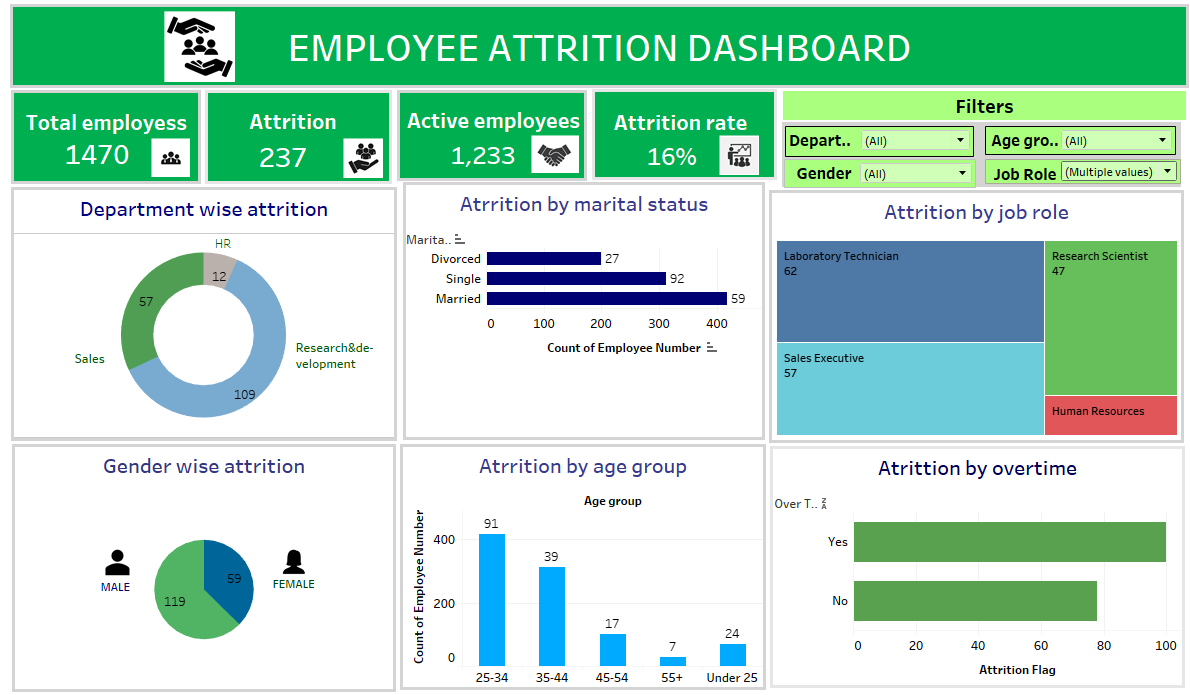

Layout of this report page (visuals, bound fields, positions):
{"tool":"tableau","page":{"name":"Dashboard 2","canvas":[1200,860],"ordinal":0},"visuals":[{"type":"text","box":[12,5,1179,84]},{"type":"image","param":"Image/79532fa8-296c-453c-b81e-f34014243d36.jpeg","box":[166,12,264,71]},{"type":"image","param":"Image/5a890700-e112-424e-81fd-c94060619dfd.jpeg","box":[176,17,256,75]},{"type":"text","box":[398,84,195,74]},{"type":"text","box":[221,89,148,66]},{"type":"text","box":[613,90,149,65]},{"type":"text","box":[25,91,168,64]},{"type":"text","box":[785,92,403,29]},{"type":"text","box":[431,117,108,76]},{"type":"text","box":[646,119,108,74]},{"type":"text","box":[258,120,118,74]},{"type":"filter","title":"Sheet 16","param":"[federated.16zpelg1lhxt8r173925q1rbhgaf].[none:Department:nk]","box":[787,127,189,31]},{"type":"filter","title":"Sheet 14","param":"[federated.16zpelg1lhxt8r173925q1rbhgaf].[none:Calculation_81909247215124481:nk]","box":[987,127,191,29]},{"type":"text","box":[45,135,108,39]},{"type":"image","param":"Image/637afc44-7fb7-4b32-ad8b-566a327054fc.jpeg","box":[533,136,48,46]},{"type":"image","param":"Image/Training icon isolated on white background Vector illustration _ Premium V","box":[721,136,66,40]},{"type":"image","param":"Image/Employee Silhouette PNG Transparent, Employee Icon Design Template Vector ","box":[153,139,47,39]},{"type":"image","param":"Image/An inclusive workplace_ Employee Protection icon.jpeg","box":[345,139,63,40]},{"type":"filter","title":"Sheet 12","param":"[federated.16zpelg1lhxt8r173925q1rbhgaf].[none:Gender:nk]","box":[786,160,192,29]},{"type":"filter","title":"Sheet 15","param":"[federated.16zpelg1lhxt8r173925q1rbhgaf].[none:JobRole:nk]","box":[987,160,196,25]},{"type":"image","param":"Image/4a7e0ff7-4059-4ecc-810a-42140092f9d6.jpeg","box":[351,162,33,32]},{"type":"image","param":"Image/9324ca4c-8268-4a35-89d4-aea2db6ec67a.jpeg","box":[151,163,56,32]},{"type":"image","param":"Image/….jpeg","box":[730,163,48,25]},{"type":"image","param":"Image/e974a485-ed11-454a-9ee4-c51703197817.jpeg","box":[544,164,29,29]},{"type":"worksheet","title":"Sheet 13","mark":"Automatic","rows":["MaritalStatus"],"cols":["EmployeeNumber"],"box":[405,183,362,258]},{"type":"worksheet","title":"Sheet 16","mark":"Pie","rows":["Calculation_521854635137052681","Calculation_521854635137052681"],"box":[13,188,386,254]},{"type":"worksheet","title":"Sheet 15","mark":"Automatic","box":[771,191,415,253]},{"type":"text","box":[214,223,108,42]},{"type":"text","box":[295,336,89,42]},{"type":"text","box":[74,338,108,42]},{"type":"worksheet","title":"Sheet 12","mark":"Pie","box":[14,445,384,248]},{"type":"worksheet","title":"Sheet 14","mark":"Automatic","rows":["EmployeeNumber"],"cols":["Calculation_81909247215124481"],"box":[402,445,366,246]},{"type":"worksheet","title":"Sheet 17","mark":"Automatic","rows":["OverTime"],"cols":["Calculation_539306069861269504"],"box":[772,447,415,242]},{"type":"image","param":"Image/user icon, #user, #ad, #sponsored, #icon, #ad.jpeg","box":[101,545,36,48]},{"type":"image","param":"Image/7111cc6c-83f1-483a-9abb-6ef8c344eabe.jpeg","box":[281,548,29,41]},{"type":"text","box":[272,562,108,44]},{"type":"text","box":[100,565,108,44]},{"type":"image","param":"Image/download (2).jpeg","box":[91,644,85,74]},{"type":"image","param":"Image/04028cd6-102d-4be9-aee7-0cf688dfaead.jpeg","box":[276,669,61,59]}]}

Visuals, with their boxes on the page's 1200x860 design canvas (x1, y1, x2, y2). These are canvas units, not pixel positions in the 1190x695 screenshot, which may show the page scaled, cropped or inside an application window:
text: 12:5:1191:89
image: 166:12:430:83
image: 176:17:432:92
text: 398:84:593:158
text: 221:89:369:155
text: 613:90:762:155
text: 25:91:193:155
text: 785:92:1188:121
text: 431:117:539:193
text: 646:119:754:193
text: 258:120:376:194
"Sheet 16" filter: 787:127:976:158
"Sheet 14" filter: 987:127:1178:156
text: 45:135:153:174
image: 533:136:581:182
image: 721:136:787:176
image: 153:139:200:178
image: 345:139:408:179
"Sheet 12" filter: 786:160:978:189
"Sheet 15" filter: 987:160:1183:185
image: 351:162:384:194
image: 151:163:207:195
image: 730:163:778:188
image: 544:164:573:193
"Sheet 13" worksheet: 405:183:767:441
"Sheet 16" worksheet (Pie marks): 13:188:399:442
"Sheet 15" worksheet: 771:191:1186:444
text: 214:223:322:265
text: 295:336:384:378
text: 74:338:182:380
"Sheet 12" worksheet (Pie marks): 14:445:398:693
"Sheet 14" worksheet: 402:445:768:691
"Sheet 17" worksheet: 772:447:1187:689
image: 101:545:137:593
image: 281:548:310:589
text: 272:562:380:606
text: 100:565:208:609
image: 91:644:176:718
image: 276:669:337:728
